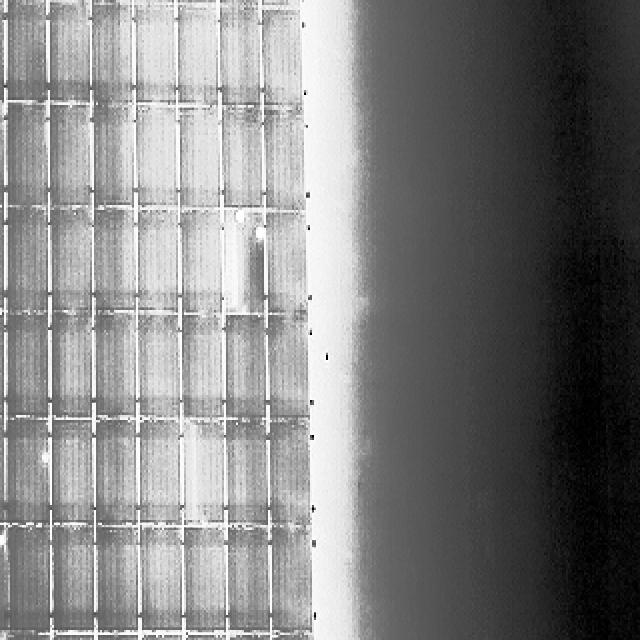Hotspots: (238, 210, 265, 233), (250, 214, 268, 238), (0, 528, 10, 550), (40, 449, 50, 468)
PV-modules: (181, 212, 230, 319), (51, 526, 98, 636), (9, 525, 56, 633), (138, 526, 184, 634), (224, 526, 270, 634), (90, 528, 135, 637), (221, 320, 266, 428), (94, 313, 139, 421), (136, 312, 181, 419), (182, 320, 227, 427), (92, 106, 138, 210), (264, 214, 310, 318), (4, 419, 49, 525), (3, 209, 48, 315), (91, 422, 136, 528), (268, 422, 313, 528), (222, 418, 266, 526), (183, 418, 227, 526), (270, 526, 314, 634), (93, 206, 138, 311), (3, 1, 48, 106), (4, 313, 49, 417), (178, 107, 223, 211), (138, 422, 182, 528), (50, 312, 94, 418), (92, 2, 136, 108), (132, 2, 176, 108), (4, 102, 48, 206), (48, 210, 92, 314), (48, 2, 91, 108), (186, 528, 228, 636), (268, 317, 310, 425), (134, 104, 178, 207), (48, 103, 92, 206), (51, 418, 95, 521), (136, 206, 179, 311), (263, 110, 306, 215), (219, 106, 263, 208), (262, 7, 305, 110), (222, 5, 264, 110), (225, 214, 268, 316), (177, 0, 219, 104), (0, 100, 8, 205), (0, 525, 8, 630), (0, 0, 8, 105), (0, 310, 6, 418), (0, 417, 4, 525), (8, 632, 56, 640), (48, 635, 96, 640), (138, 635, 184, 640), (92, 635, 138, 640), (224, 635, 270, 640), (184, 635, 228, 640), (270, 635, 314, 640), (0, 207, 2, 315), (0, 632, 10, 640)
